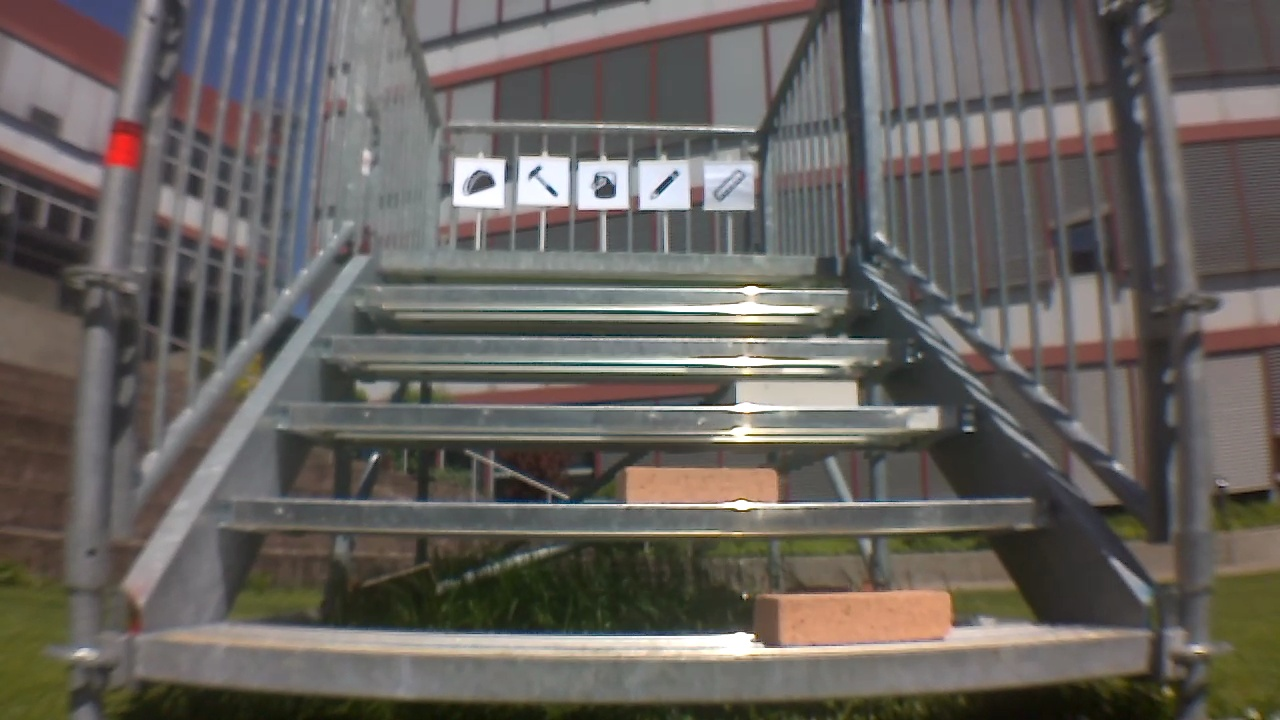brick: (744, 583, 948, 648), (613, 468, 779, 509), (729, 379, 857, 410)
bucket: (588, 167, 622, 200)
edge: (121, 629, 1158, 697), (223, 493, 1052, 532), (274, 405, 982, 433), (340, 287, 884, 316), (313, 337, 931, 362), (370, 253, 848, 277)
hammer: (527, 167, 565, 202)
pencil: (644, 168, 681, 202)
ruler: (715, 167, 747, 200)
stairs: (69, 0, 1192, 706)
steps: (107, 250, 1169, 702)
taco: (461, 171, 498, 195)
